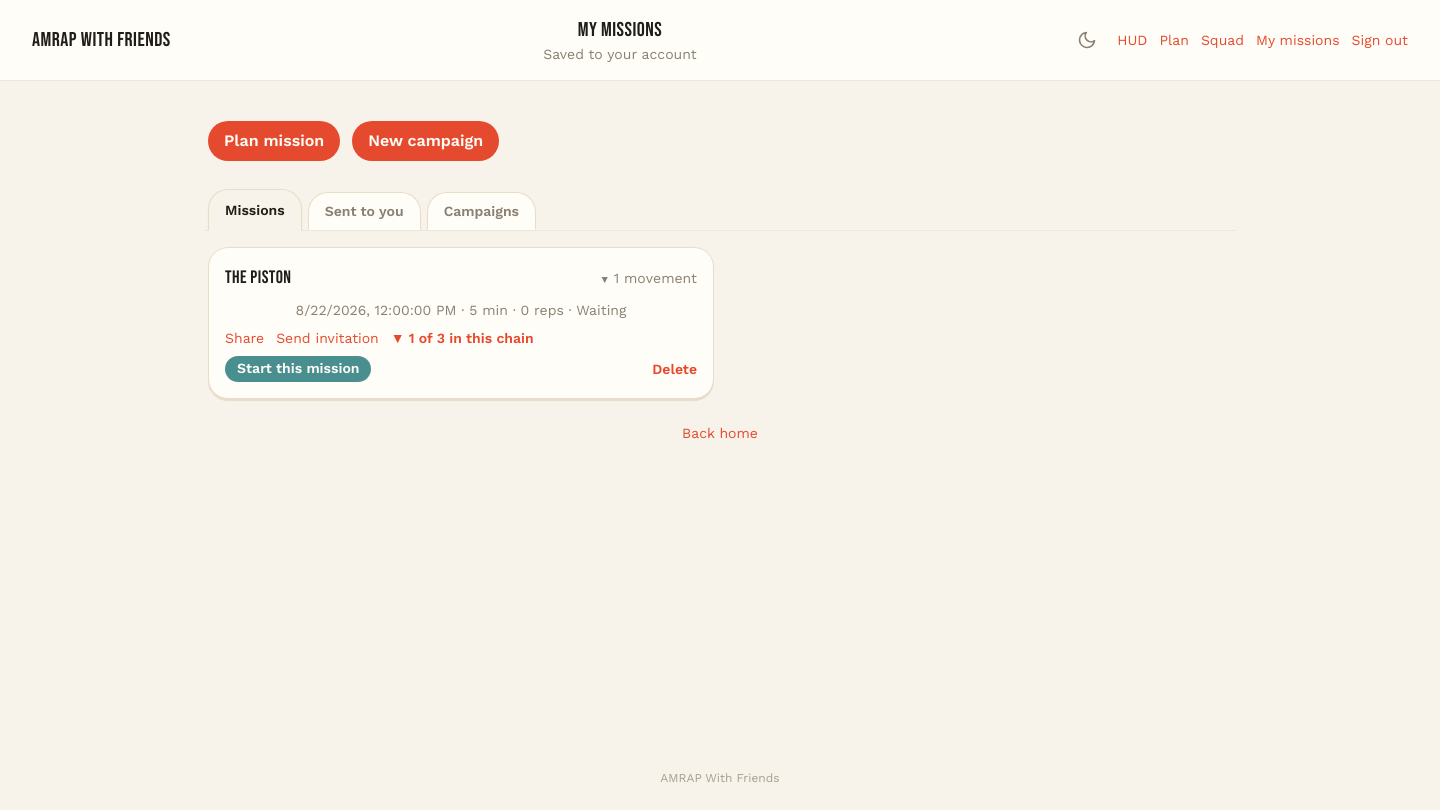
Test: MyMissionsPage chain groups › expands a planned chain to show queued mission cards in order
This screenshot has width=1440, height=810.
expect the text "The Piston" is shown: met, box [225, 264, 292, 292]
expect the text "The Metronome" is not shown: met
Click the button with aria-label "Show chained missions": {"x": 462, "y": 338} [391, 328, 534, 348]
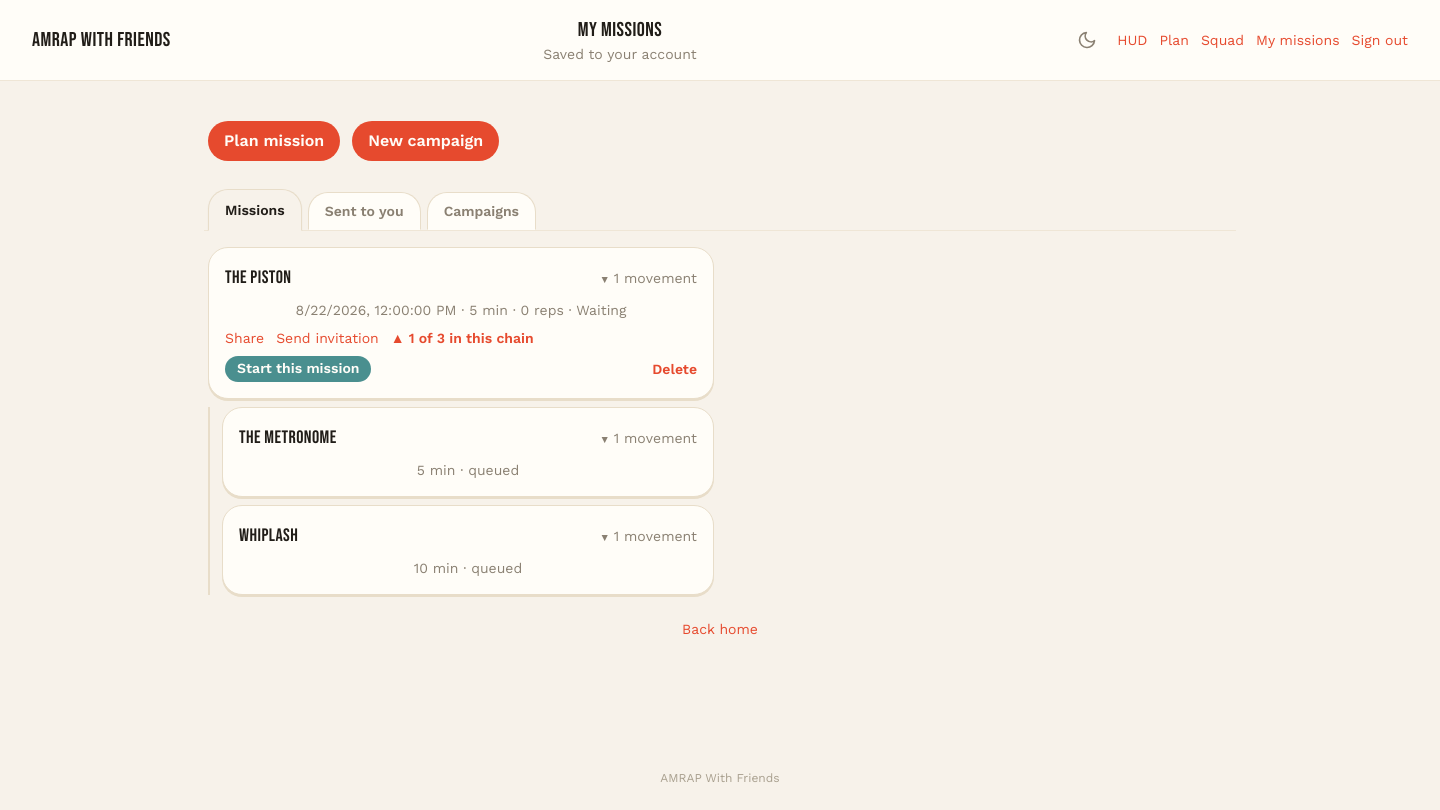
expect the text "The Metronome" is shown: met, box [239, 424, 337, 452]
expect the text "Whiplash" is shown: met, box [239, 522, 298, 550]
expect the button with aria-label "Hide chained missions" is shown: met
Click the button with aria-label "Hide chained missions": {"x": 462, "y": 338} [391, 328, 534, 348]
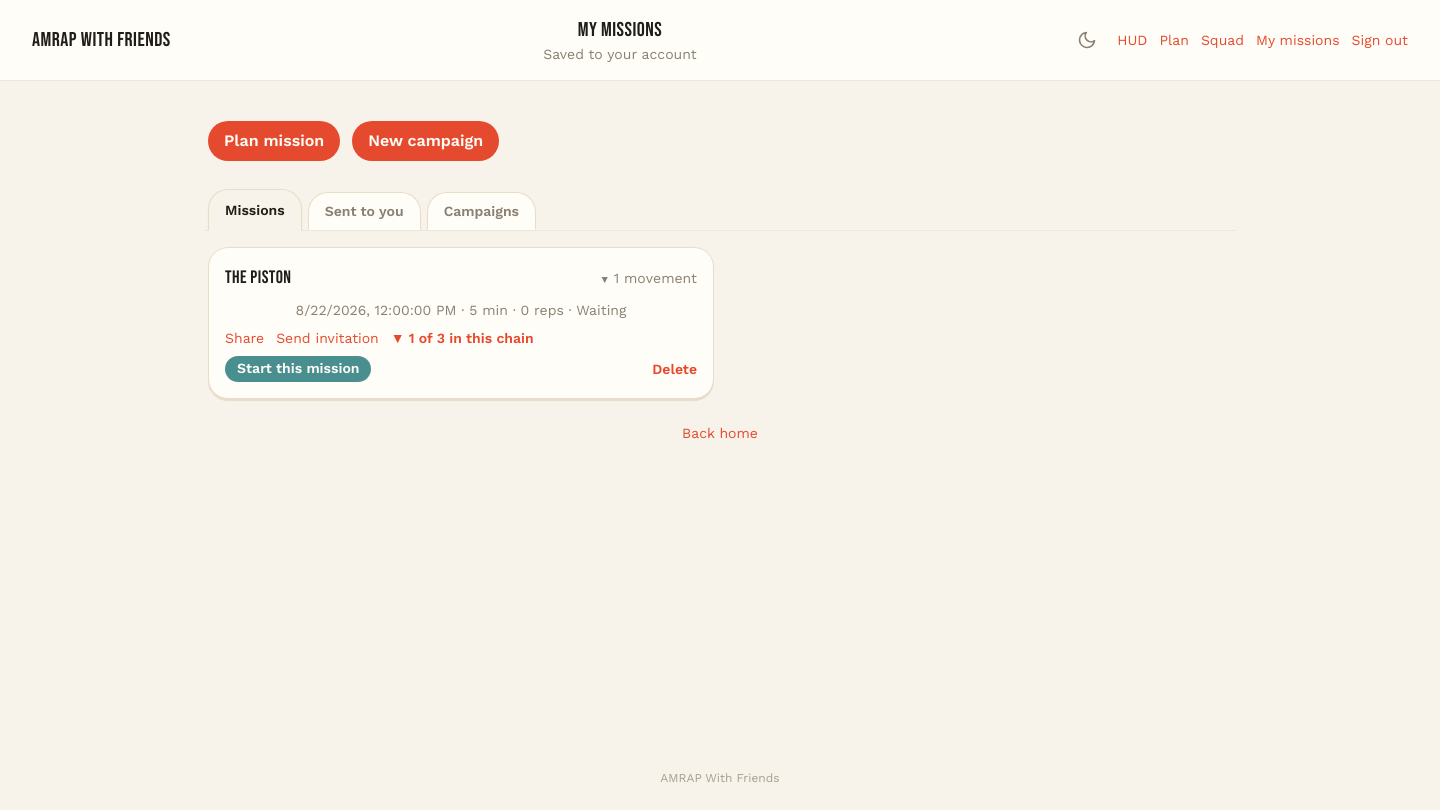
expect the heading "The Metronome" is gone: met
